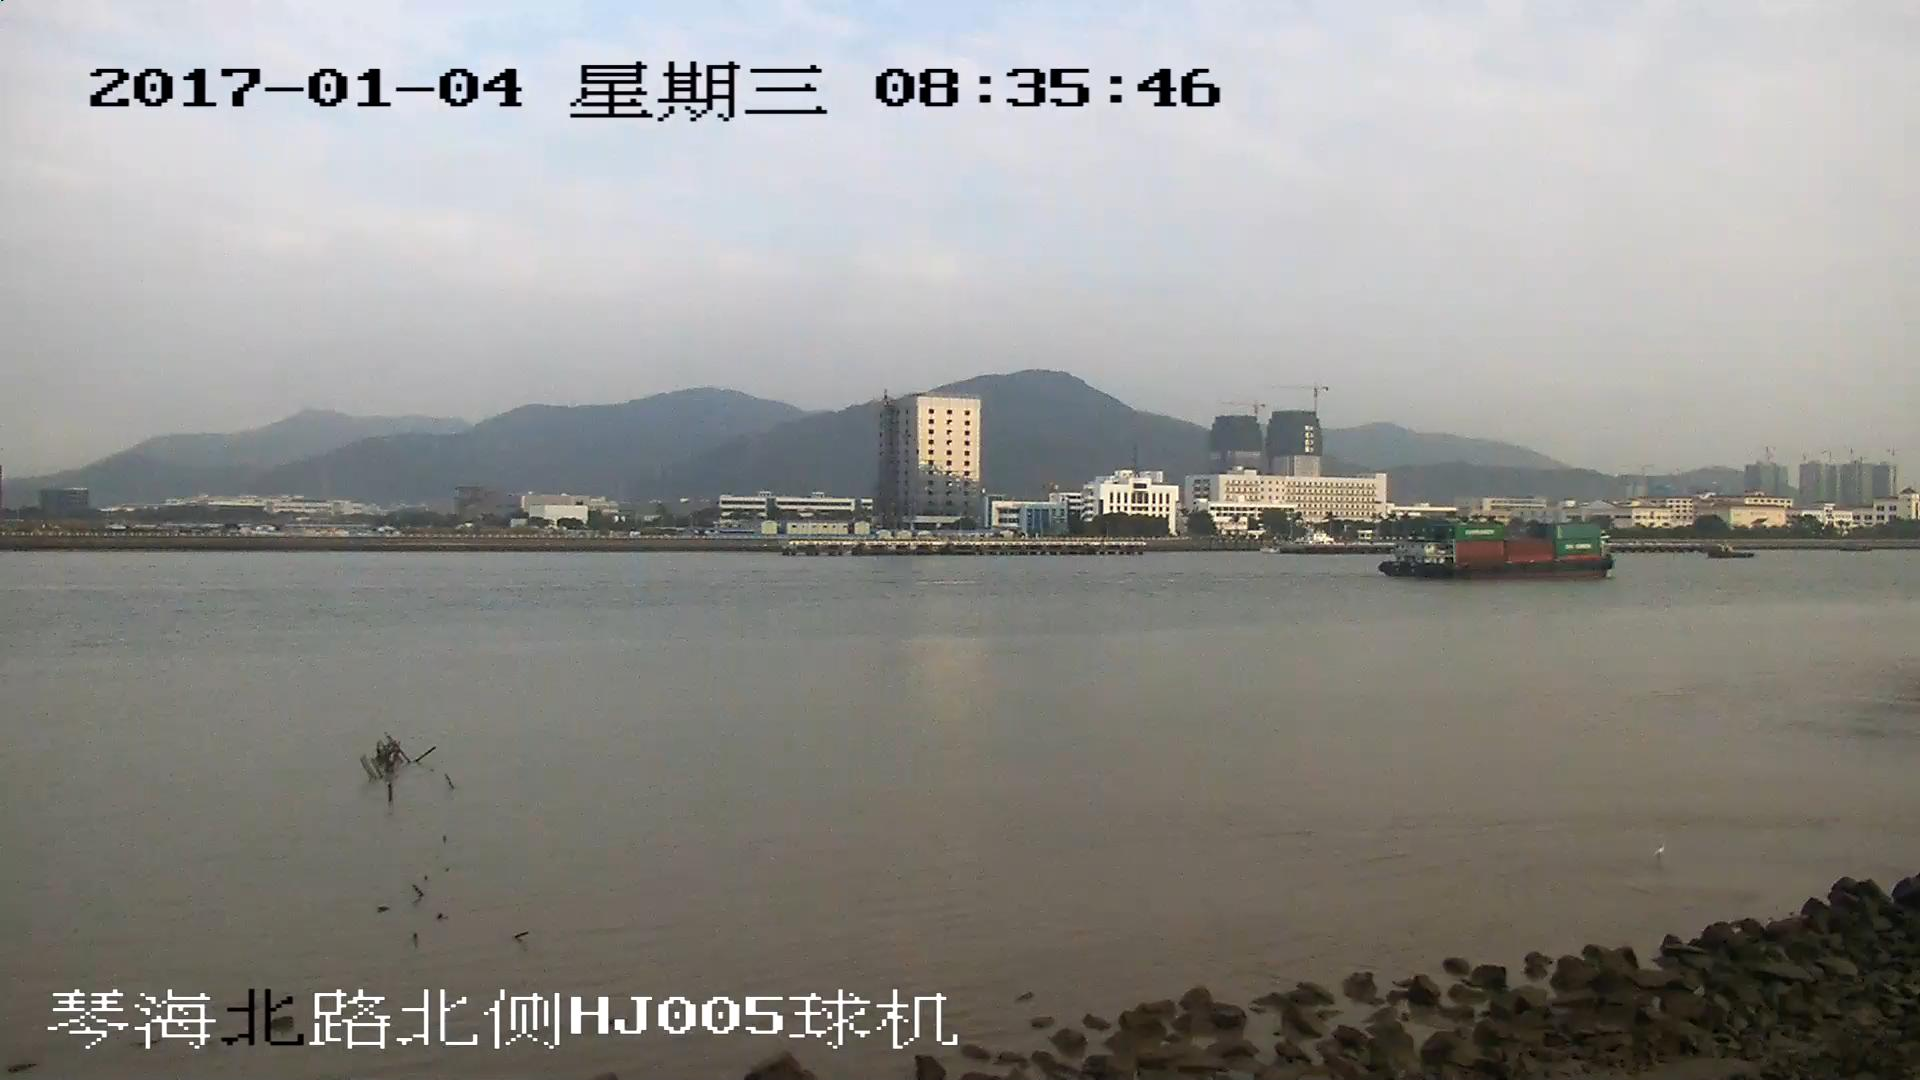container ship: (1384, 519, 1612, 579)
